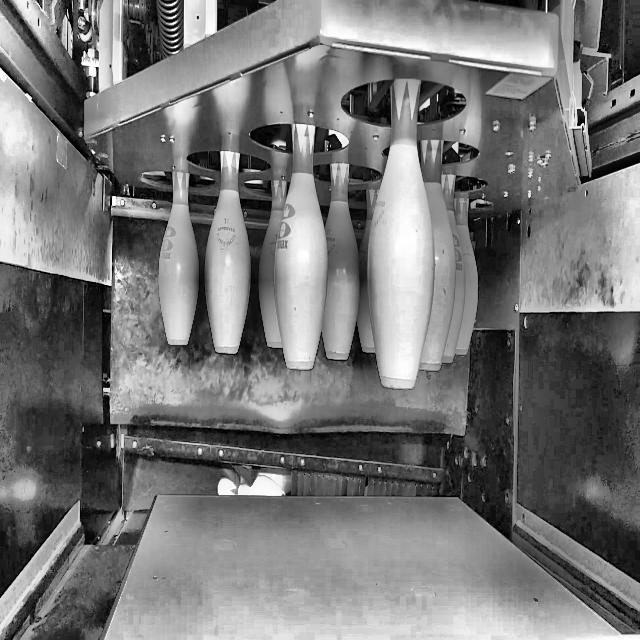bowling-pins: (368, 77, 434, 388), (274, 121, 328, 369), (204, 147, 250, 353), (420, 123, 456, 370), (322, 161, 360, 359), (158, 170, 199, 345), (258, 164, 287, 347), (442, 171, 466, 362), (358, 178, 382, 352), (455, 191, 479, 354)
